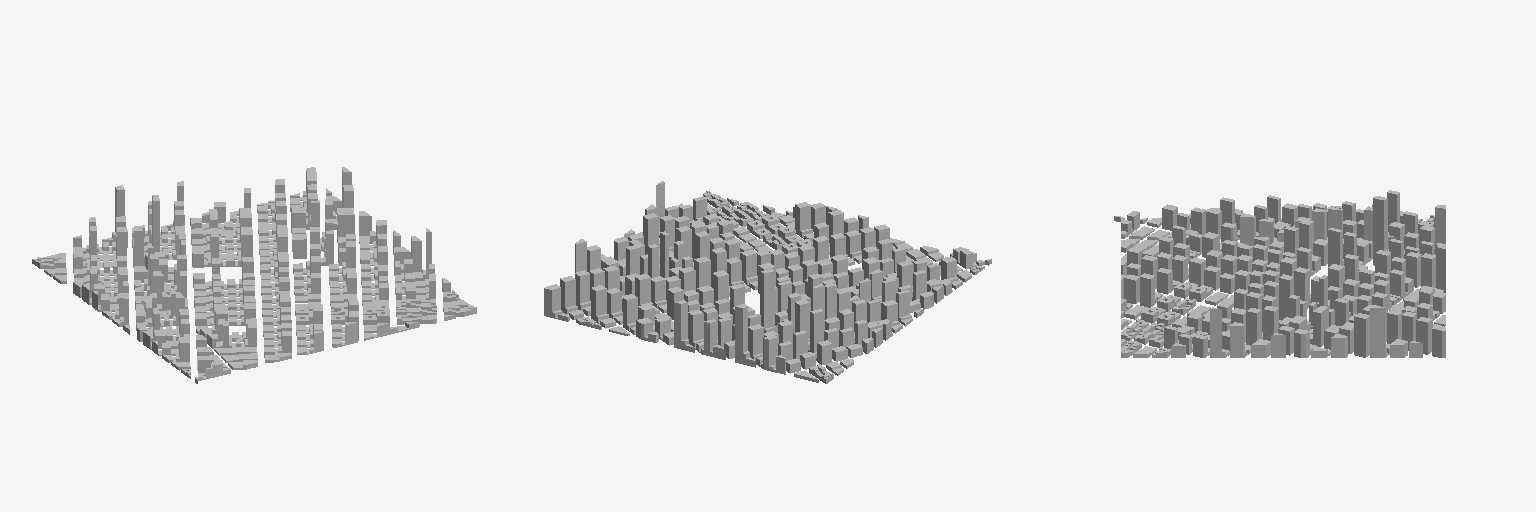
File: buildings_00094.obj
3 renders of one model, left to right at view 1: azimuth 30°, elevation 25°; view 2: azimuth 150°, elevation 25°; view 3: azimuth 270°, elevation 25°, orthographic.
Size of the model in its own units: 1500 by 342 by 1532.